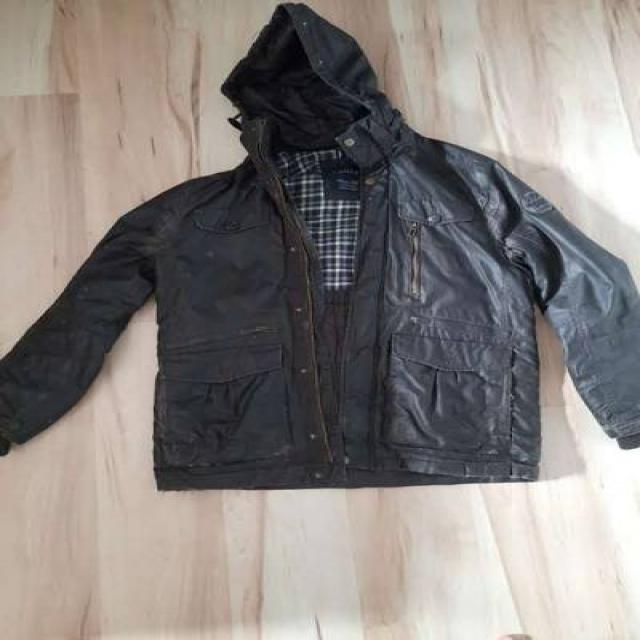Clothes -Biodegradable-: (0, 4, 640, 491)
